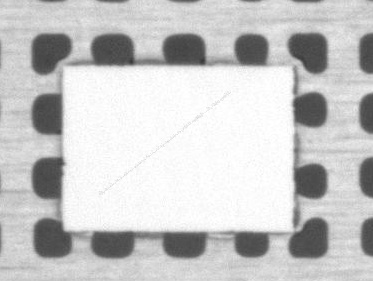DIE_CRACK: (133, 69, 305, 146)
